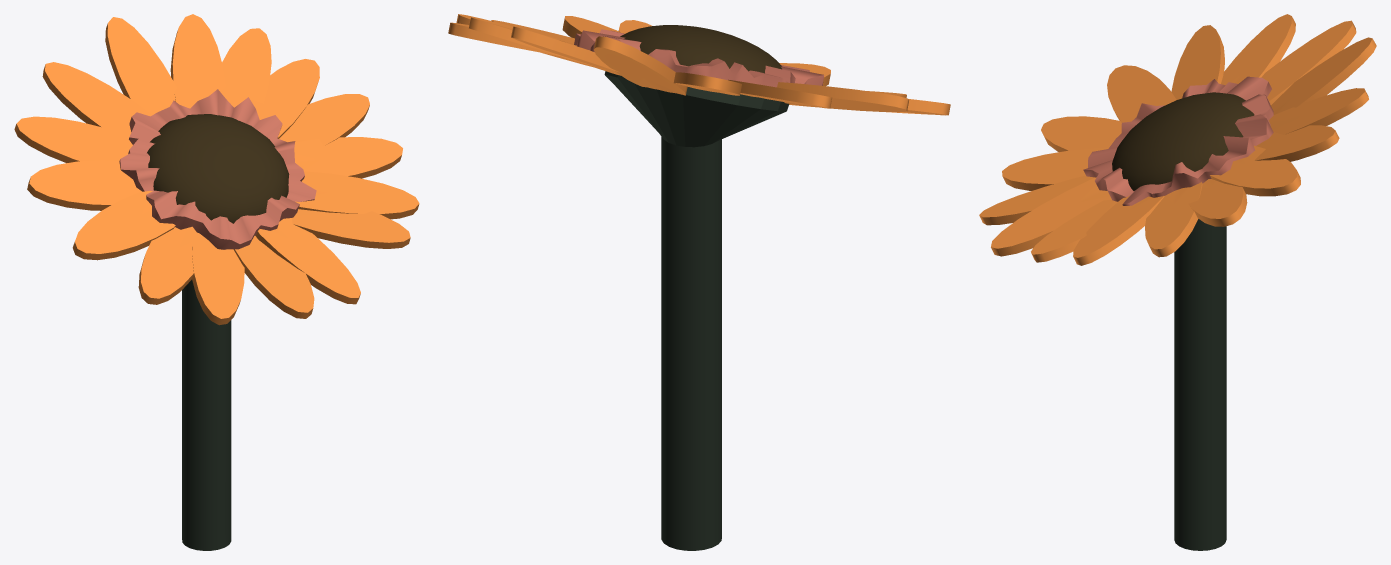
File: gerbera daisy.obj
3 views of the same model, side by side, from view 1: azimuth 30°, elevation 25°; view 2: azimuth 150°, elevation 25°; view 3: azimuth 270°, elevation 25° (orthographic). The views are drawn at different scales.
Parts seen in each view (by area): view 1: steam gerberaDaisy, gerberaDaisy head pSphere5 centere, gerberaDaisy head centere pPipe1, gerberaDaisy petals head polySurface14, gerberaDaisy polySurface1 petals head, gerberaDaisy petals head polySurface13, gerberaDaisy petals head polySurface15, gerberaDaisy petals head polySurface9, gerberaDaisy petals head polySurface16, gerberaDaisy petals head polySurface7, gerberaDaisy petals head polySurface2, gerberaDaisy petals head polySurface6 (+7 smaller); view 2: steam gerberaDaisy, gerberaDaisy head pSphere5 centere, gerberaDaisy head centere pPipe1, gerberaDaisy polySurface1 petals head, gerberaDaisy petals head polySurface14, gerberaDaisy petals head polySurface2, gerberaDaisy petals head polySurface15, gerberaDaisy petals head polySurface16, gerberaDaisy petals head polySurface4, gerberaDaisy petals head polySurface3, gerberaDaisy petals head polySurface7; view 3: steam gerberaDaisy, gerberaDaisy head pSphere5 centere, gerberaDaisy head centere pPipe1, gerberaDaisy petals head polySurface9, gerberaDaisy petals head polySurface7, gerberaDaisy polySurface1 petals head, gerberaDaisy petals head polySurface16, gerberaDaisy petals head polySurface6, gerberaDaisy petals head polySurface4, gerberaDaisy petals head polySurface15, gerberaDaisy petals head polySurface11, gerberaDaisy petals head polySurface13 (+7 smaller).
Part boxes in pixels (<box>): steam gerberaDaisy: <box>182,279,231,550</box>; gerberaDaisy head pSphere5 centere: <box>147,114,289,223</box>; gerberaDaisy head centere pPipe1: <box>119,89,316,249</box>; gerberaDaisy petals head polySurface14: <box>27,160,141,210</box>; gerberaDaisy polySurface1 petals head: <box>105,17,176,115</box>; gerberaDaisy petals head polySurface13: <box>72,191,175,260</box>; gerberaDaisy petals head polySurface15: <box>14,116,132,163</box>; gerberaDaisy petals head polySurface9: <box>255,218,360,304</box>; gerberaDaisy petals head polySurface16: <box>42,62,151,135</box>; gerberaDaisy petals head polySurface7: <box>295,171,419,219</box>; gerberaDaisy petals head polySurface2: <box>170,14,225,108</box>; gerberaDaisy petals head polySurface6: <box>294,137,402,178</box>; steam gerberaDaisy: <box>604,71,789,550</box>; gerberaDaisy head pSphere5 centere: <box>620,25,781,73</box>; gerberaDaisy head centere pPipe1: <box>574,29,823,87</box>; gerberaDaisy polySurface1 petals head: <box>593,36,687,95</box>; gerberaDaisy petals head polySurface14: <box>777,82,908,112</box>; gerberaDaisy petals head polySurface2: <box>511,26,620,75</box>; gerberaDaisy petals head polySurface15: <box>728,79,831,108</box>; gerberaDaisy petals head polySurface16: <box>673,72,741,95</box>; gerberaDaisy petals head polySurface4: <box>448,22,589,55</box>; gerberaDaisy petals head polySurface3: <box>469,17,601,68</box>; gerberaDaisy petals head polySurface7: <box>562,16,619,38</box>; steam gerberaDaisy: <box>1174,219,1226,550</box>; gerberaDaisy head pSphere5 centere: <box>1112,92,1254,190</box>; gerberaDaisy head centere pPipe1: <box>1083,76,1273,205</box>; gerberaDaisy petals head polySurface9: <box>991,177,1111,256</box>; gerberaDaisy petals head polySurface7: <box>1073,195,1164,265</box>; gerberaDaisy polySurface1 petals head: <box>1271,37,1376,114</box>; gerberaDaisy petals head polySurface16: <box>1261,20,1356,105</box>; gerberaDaisy petals head polySurface6: <box>1145,182,1202,257</box>; gerberaDaisy petals head polySurface4: <box>1210,145,1300,196</box>; gerberaDaisy petals head polySurface15: <box>1221,14,1295,85</box>; gerberaDaisy petals head polySurface11: <box>1002,147,1108,190</box>; gerberaDaisy petals head polySurface13: <box>1107,65,1176,122</box>.
Bounding box in the file's own units: 2.28 × 2.87 × 2.09.
